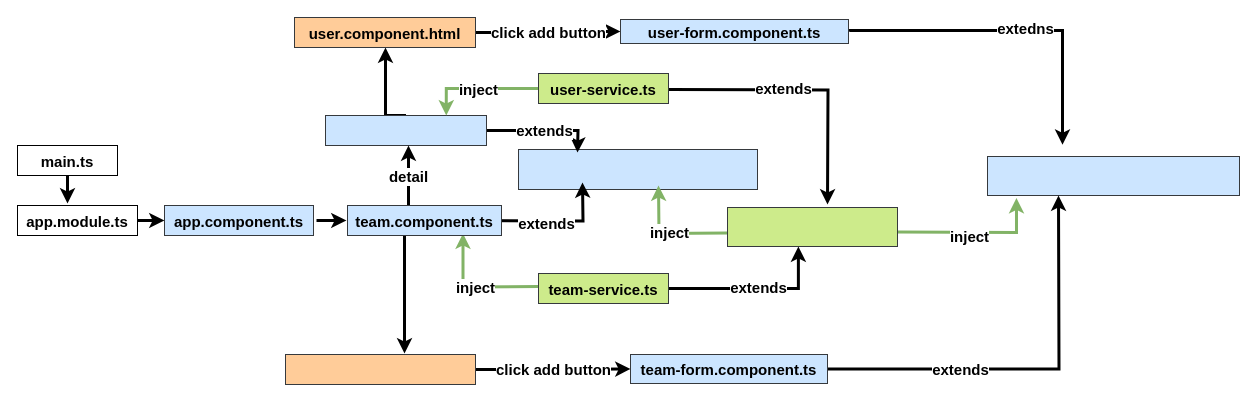
This 1257x402 diagram has some shape labels left out. Here are the shapes that lost their labels. From the top down, the box of each, then its label:
(324, 114, 486, 146): user.component.ts
(518, 148, 758, 190): base-list.component.ts (abstract)
(986, 156, 1240, 196): base-form-modal-add.component.ts (abstract)
(726, 206, 898, 246): base-multi.service.ts (abstract)
(284, 354, 476, 384): team.component.html
